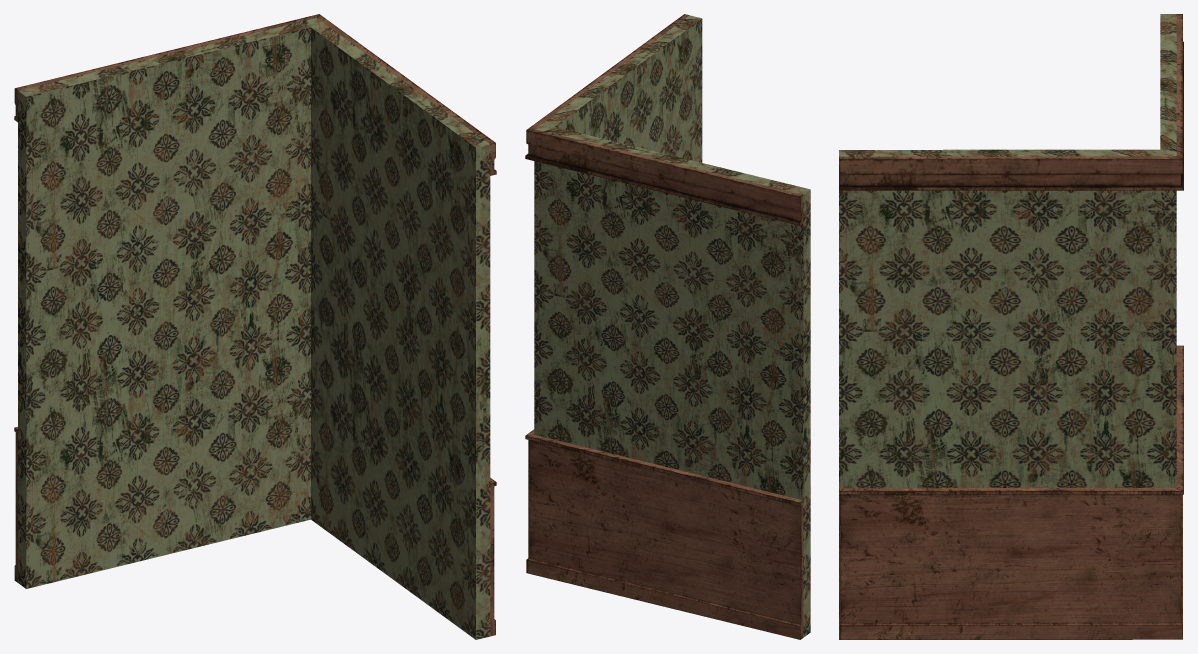
The model's file is Wall_CornerOut_2m_A.fbx.
3 renders of one model, left to right at view 1: azimuth 30°, elevation 25°; view 2: azimuth 150°, elevation 25°; view 3: azimuth 270°, elevation 25°, orthographic. The views are drawn at different scales.
Parts seen in each view (by area): view 1: Wall_CornerOut_2m_A; view 2: Wall_CornerOut_2m_A; view 3: Wall_CornerOut_2m_A.
Part boxes in pixels (left/top/right/bottom): Wall_CornerOut_2m_A: left=14, top=14, right=496, bottom=639; Wall_CornerOut_2m_A: left=525, top=14, right=810, bottom=639; Wall_CornerOut_2m_A: left=839, top=14, right=1183, bottom=639.
Size of the model in its own units: 2.15 by 2.15 by 3.3.
Materials: 2 (2 with a texture image).
